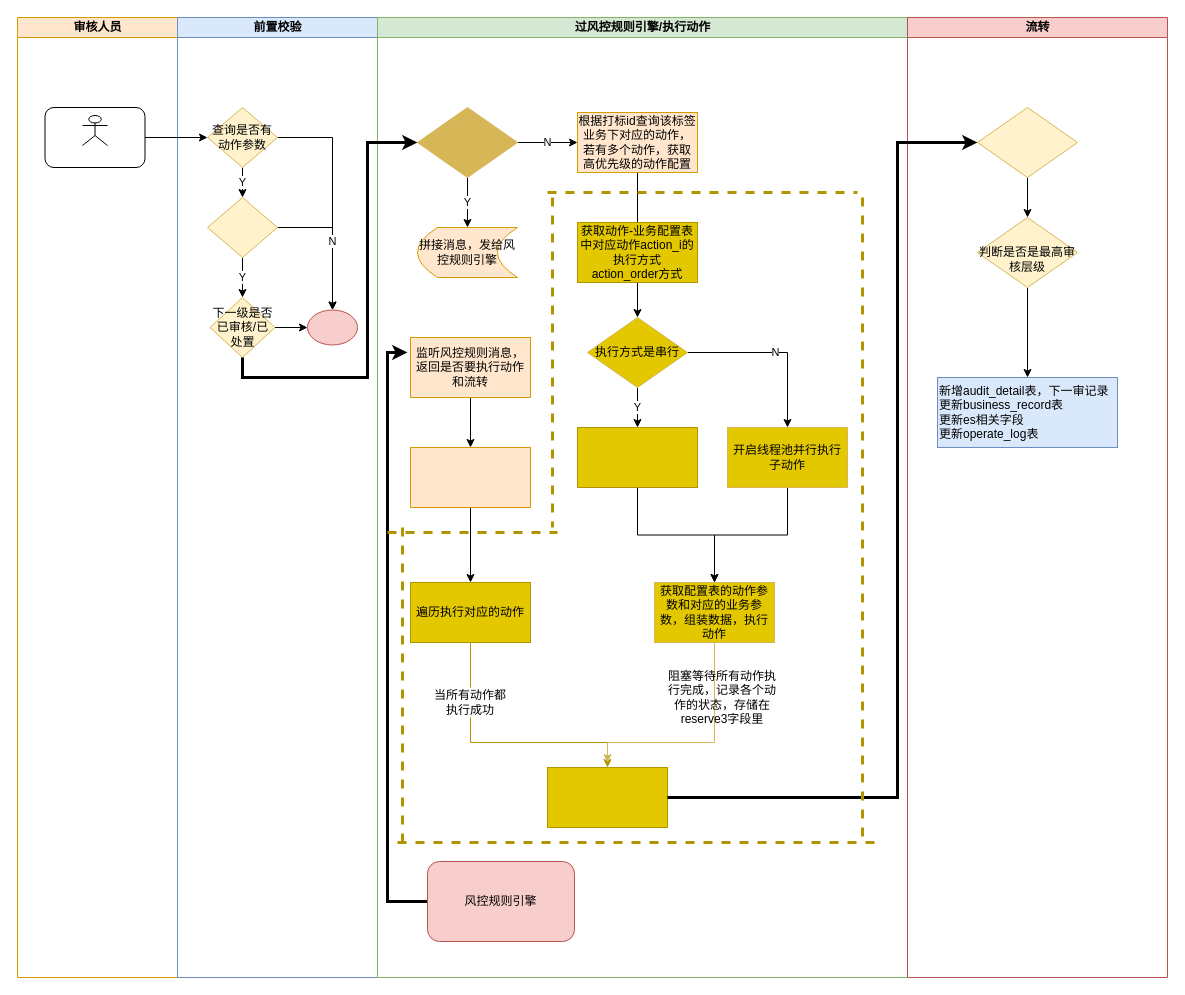
Image size: 1185x995. Some labels were removed from this diagram. Each missing label, with the centre of its shape:
"end" goes at [332,327].
"判断是否要流转" goes at [1027,142].
"更新audit_detail表 更新es动作相关字段 更新operate_log表" goes at [607,797].
"查询该动作-业务配置表判断是否要过风控规则引擎" goes at [467,142].
"查询该记录的动作处置状态" goes at [242,227].
"根据 action_order字段顺序 遍历执行对应的动作" goes at [637,457].
"根据action_id查询动作配置表" goes at [470,477].
"运营" goes at [95,130].
